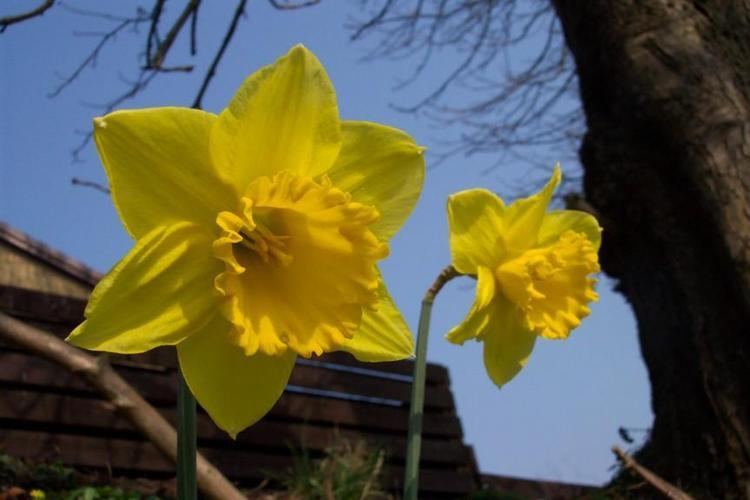flower1: (64, 42, 420, 438)
